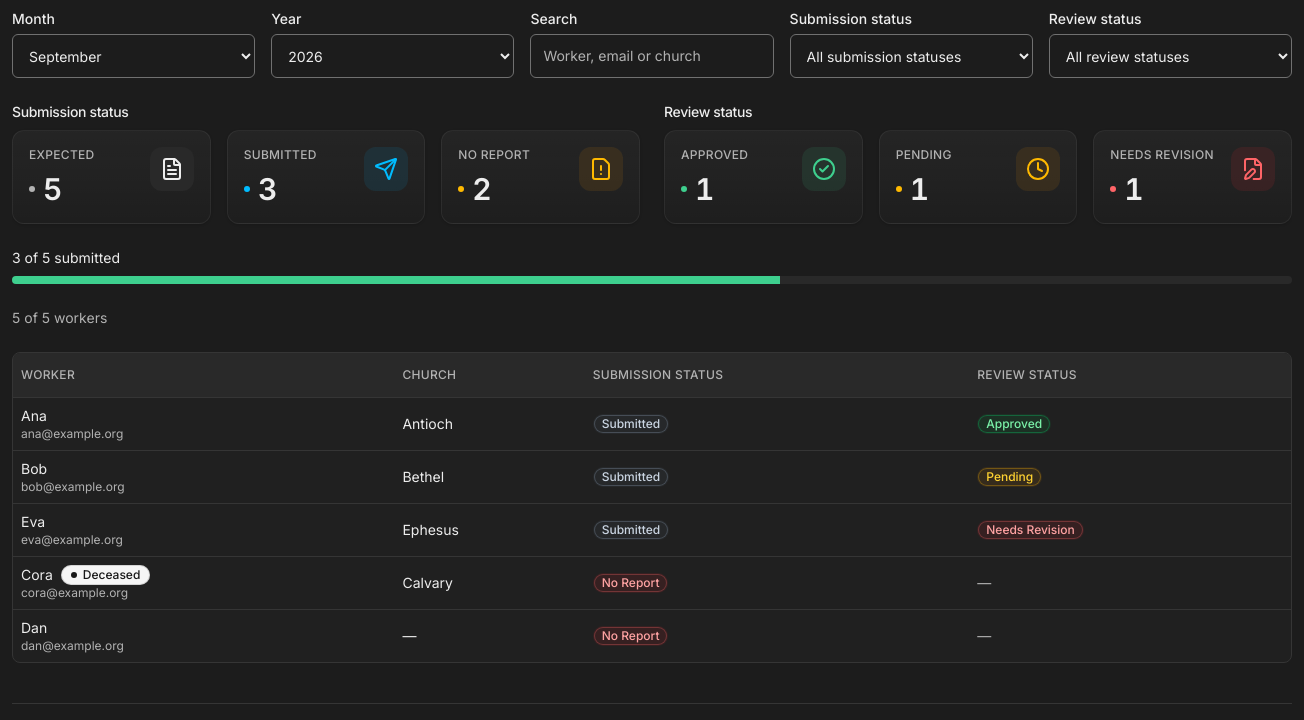
tracker › filters review status separately from submission status
Expected: the text "Ana" is shown, x1=21 y1=406 x2=47 y2=424
Step 1. Select "Needs Revision" in the dropdown labelled "Review status" → [1170, 56], box x1=1049 y1=34 x2=1292 y2=78
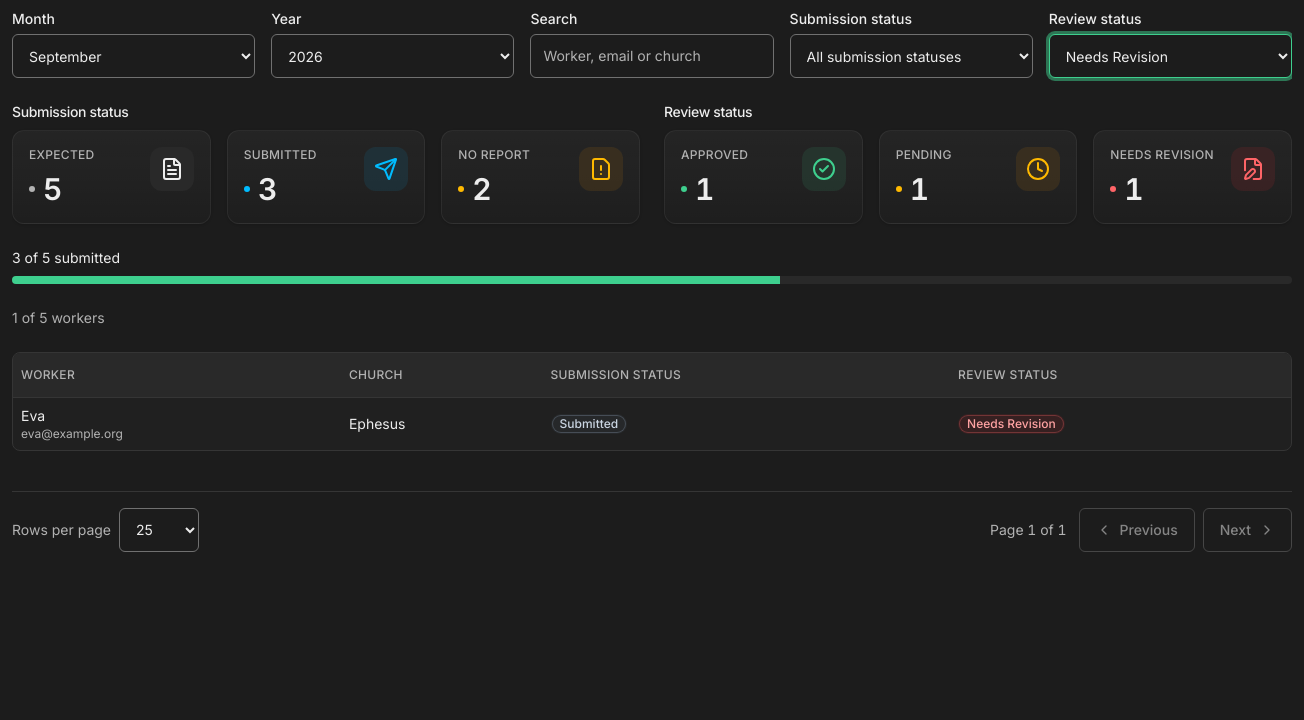
Step 2. Select "No Report" in the dropdown labelled "Submission status" → [911, 56], box x1=790 y1=34 x2=1033 y2=78
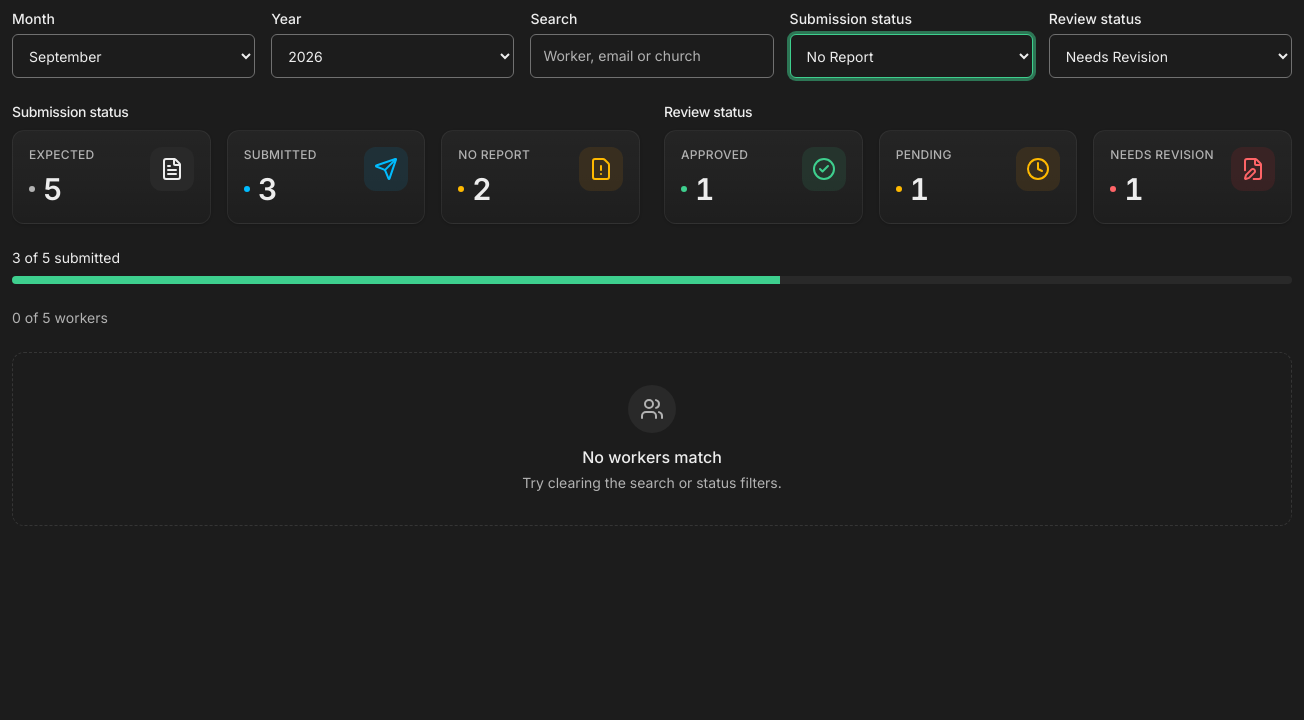
Result: the text "No workers match" is shown at x1=582 y1=447 x2=722 y2=467
